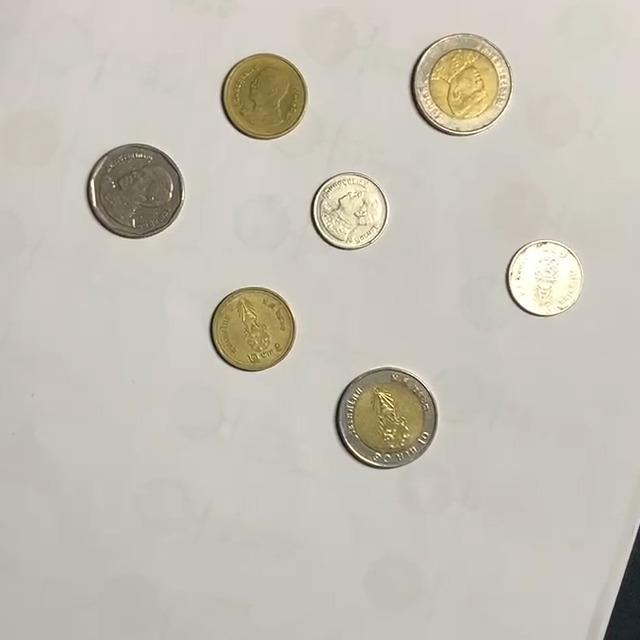1-baht: (312, 172, 392, 251), (506, 238, 586, 317)
10-baht: (336, 368, 439, 469), (413, 35, 514, 135)
2-baht: (222, 53, 309, 139), (211, 286, 297, 371)
5-baht: (87, 143, 186, 239)
